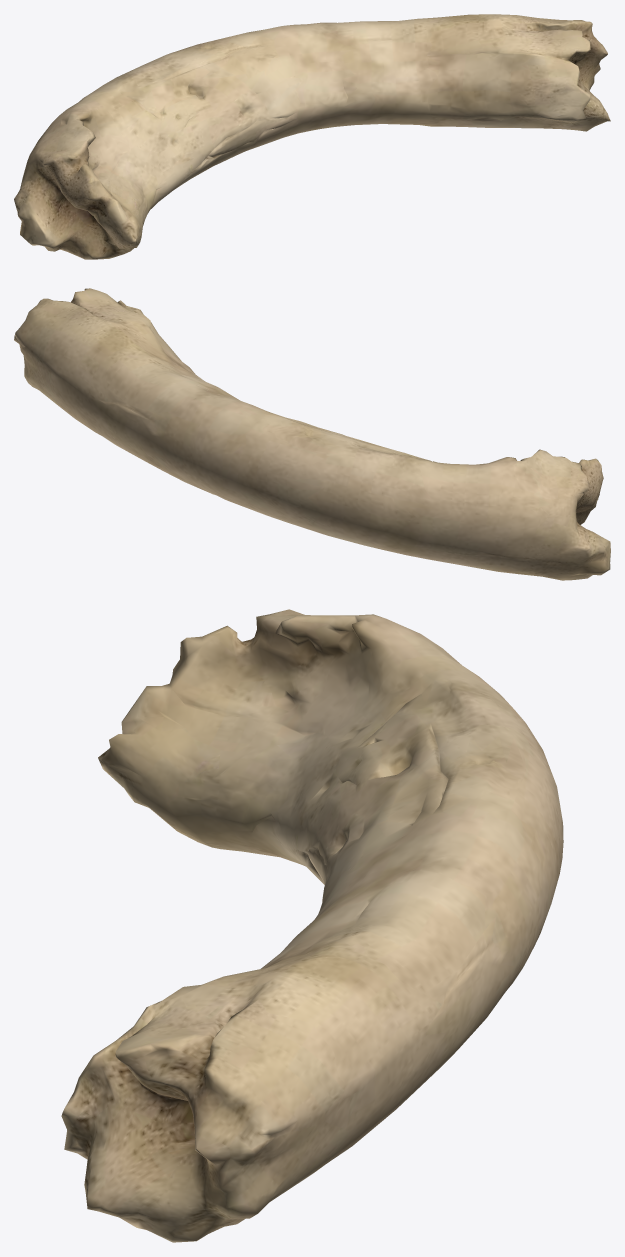
The model's file is tally_bone.glb.
3 renders of one model, top to bottom at view 1: azimuth 30°, elevation 25°; view 2: azimuth 150°, elevation 25°; view 3: azimuth 270°, elevation 25°, orthographic. The views are drawn at different scales.
Parts seen in each view (by area): view 1: tripo_node_e1867ce5-c609-47c1-bd5e-f0403bf35cbc; view 2: tripo_node_e1867ce5-c609-47c1-bd5e-f0403bf35cbc; view 3: tripo_node_e1867ce5-c609-47c1-bd5e-f0403bf35cbc.
Part boxes in pixels (left/top/right/bottom): tripo_node_e1867ce5-c609-47c1-bd5e-f0403bf35cbc: left=14, top=14, right=610, bottom=259; tripo_node_e1867ce5-c609-47c1-bd5e-f0403bf35cbc: left=14, top=288, right=610, bottom=580; tripo_node_e1867ce5-c609-47c1-bd5e-f0403bf35cbc: left=61, top=609, right=563, bottom=1242.
Bounding box in the file's own units: 0.9787 × 0.2198 × 0.3787.
Materials: 1 (1 with a texture image).
